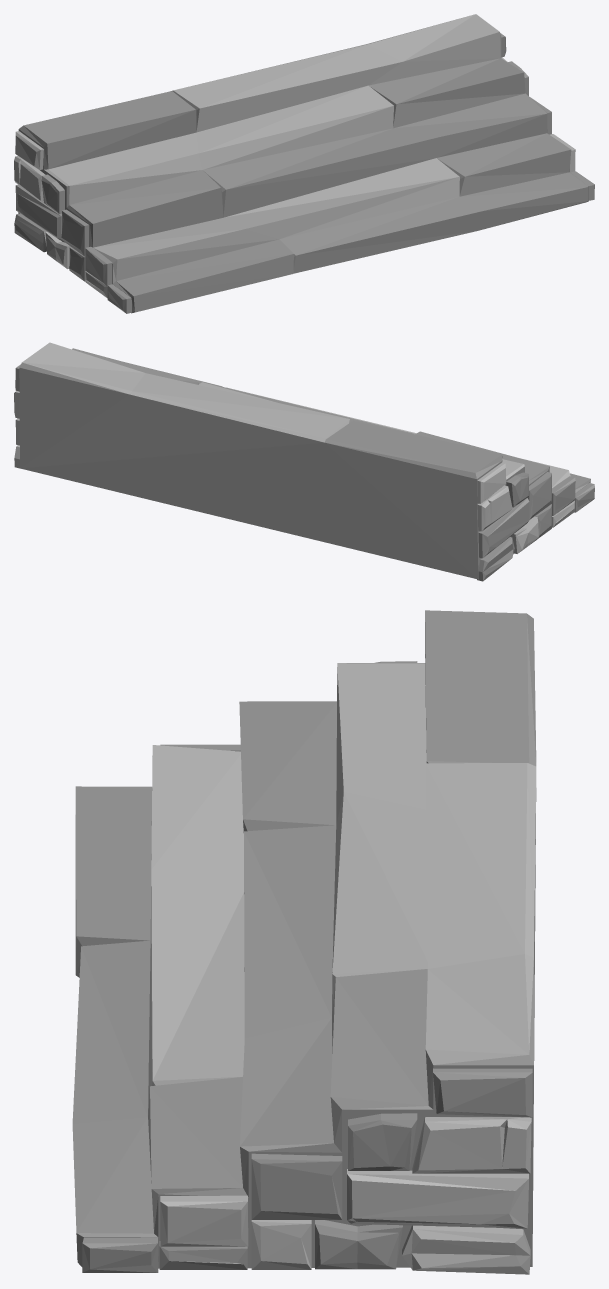
File: _STAIRS_03_1.fbx
The picture shows the model from 3 angles, top to bottom: view 1: azimuth 30°, elevation 25°; view 2: azimuth 150°, elevation 25°; view 3: azimuth 270°, elevation 25°; orthographic projection. The views are drawn at different scales.
Parts seen in each view (by area): view 1: STAIRS_03_1; view 2: STAIRS_03_1; view 3: STAIRS_03_1.
Boxes of the visible parts, x1,y1,x2,y2 form: STAIRS_03_1: (14,14,594,313); STAIRS_03_1: (14,342,594,581); STAIRS_03_1: (72,610,536,1274).
Bounding box in the file's own units: 244 × 53.34 × 103.
